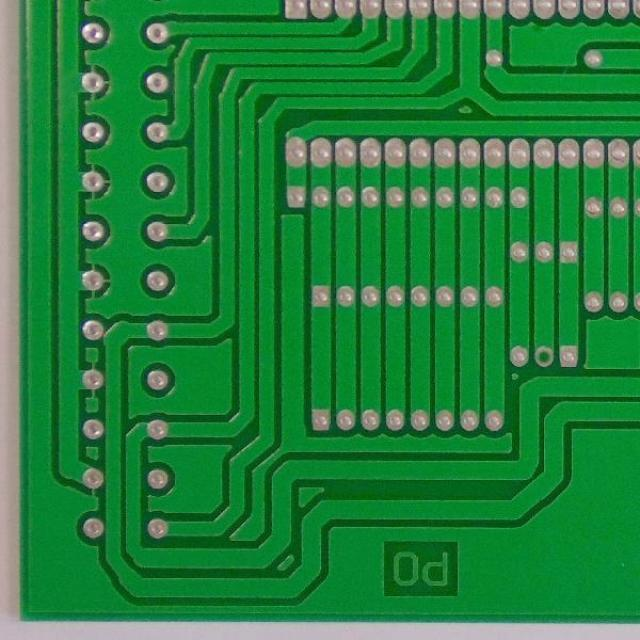Missing_Hole: (532, 344, 555, 368)
